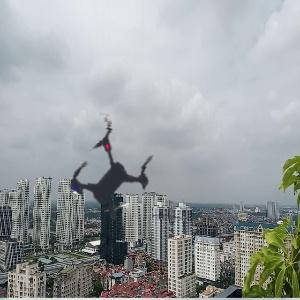drone: (22, 89, 208, 275)
